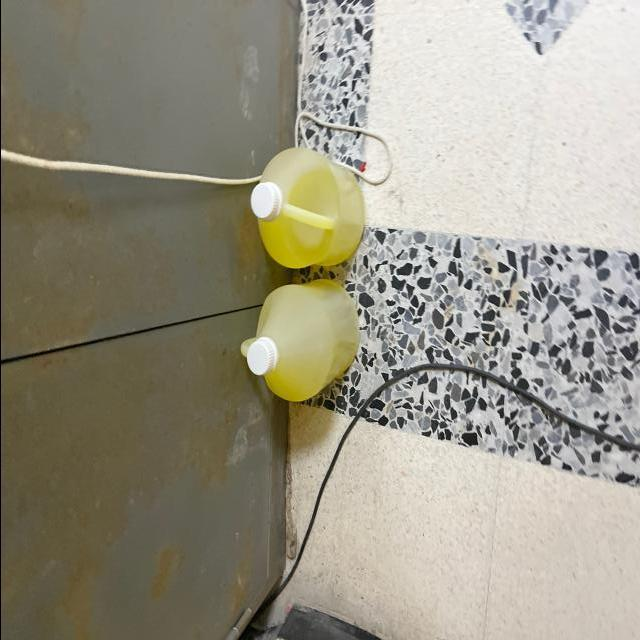HDPE Plastic: (228, 275, 360, 404), (240, 146, 368, 268)
